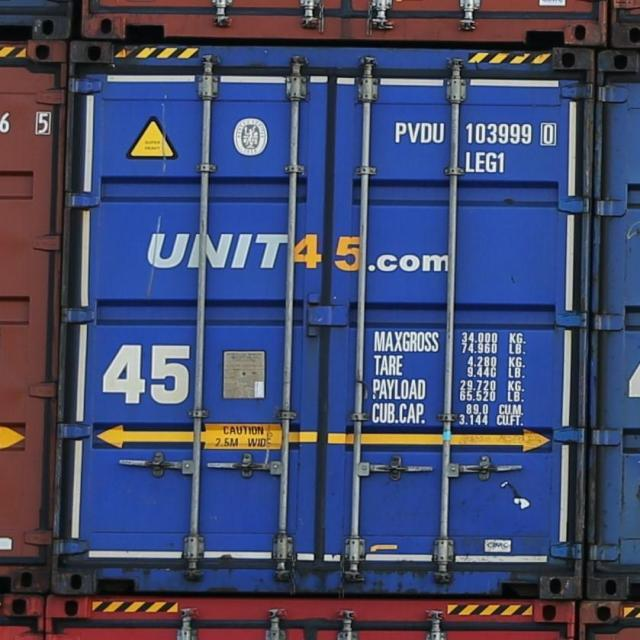ISO: (468, 152, 506, 174)
container_number: (396, 124, 558, 148)
